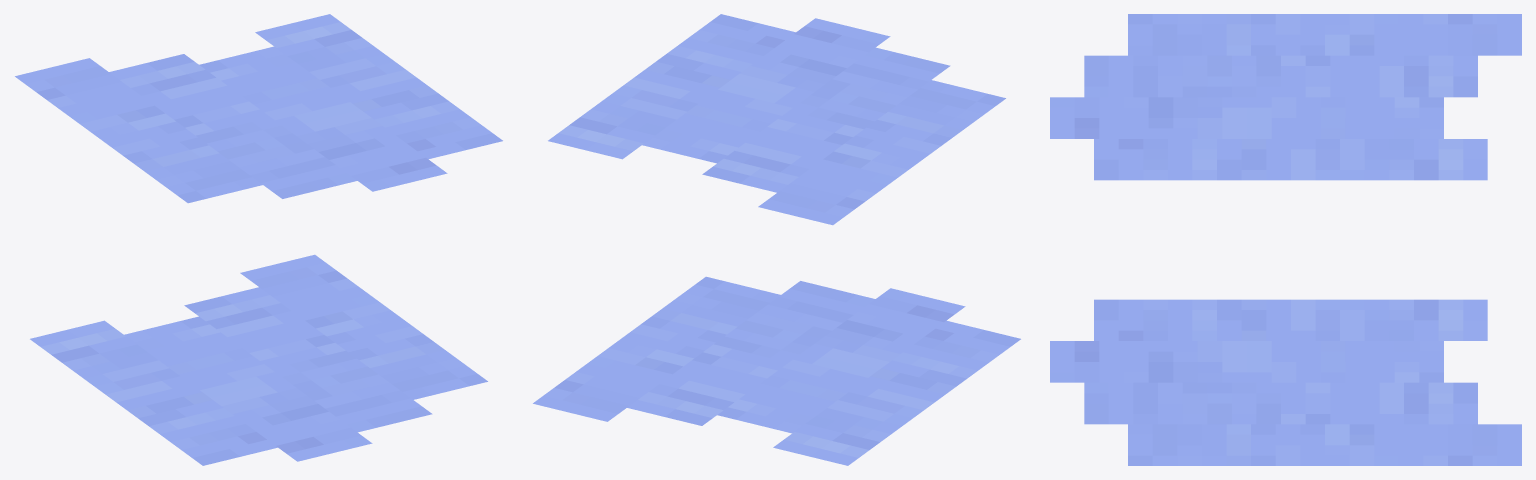
File: water.glb
The picture shows the model from 3 angles, left to right: view 1: azimuth 30°, elevation 25°; view 2: azimuth 150°, elevation 25°; view 3: azimuth 270°, elevation 25°; orthographic projection. The views are drawn at different scales.
Visible parts, largest first — view 1: wave-1, wave-3, wave-2, wave-4; view 2: wave-1, wave-3, wave-2, wave-4; view 3: wave-2, wave-1, wave-3, wave-4.
Boxes of the visible parts, bbox=[...] form: wave-1: bbox=[15, 58, 487, 399]; wave-3: bbox=[124, 46, 447, 461]; wave-2: bbox=[109, 54, 431, 432]; wave-4: bbox=[30, 14, 502, 465]; wave-1: bbox=[533, 80, 1005, 421]; wave-3: bbox=[642, 18, 965, 433]; wave-2: bbox=[627, 47, 949, 425]; wave-4: bbox=[548, 14, 1020, 465]; wave-2: bbox=[1084, 55, 1477, 424]; wave-1: bbox=[1128, 14, 1521, 465]; wave-3: bbox=[1050, 97, 1443, 382]; wave-4: bbox=[1094, 139, 1487, 340].
Size of the model in its own units: 1 by 0.8 by 1.2.
1 material, 1 textured.
